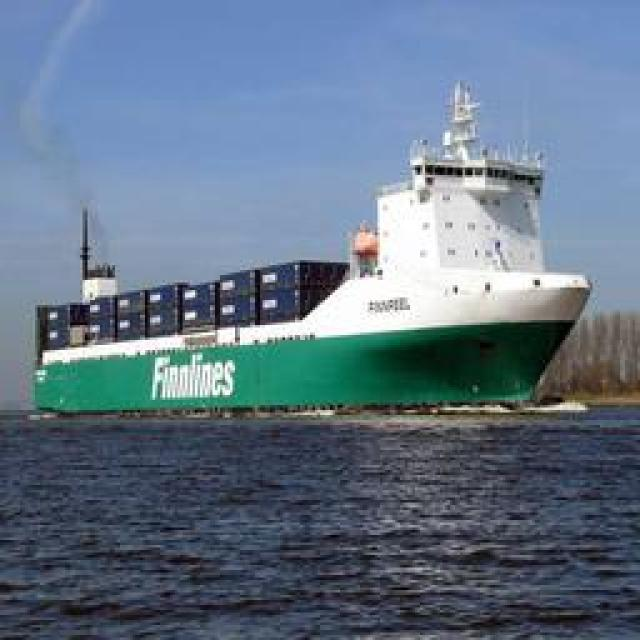CIV_Ship: (44, 71, 574, 414)
